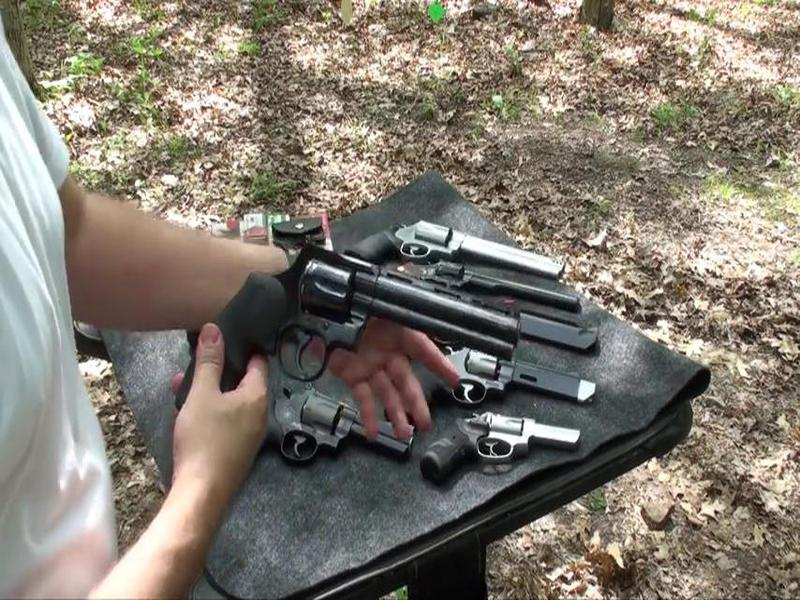Revolver: (230, 226, 529, 395)
